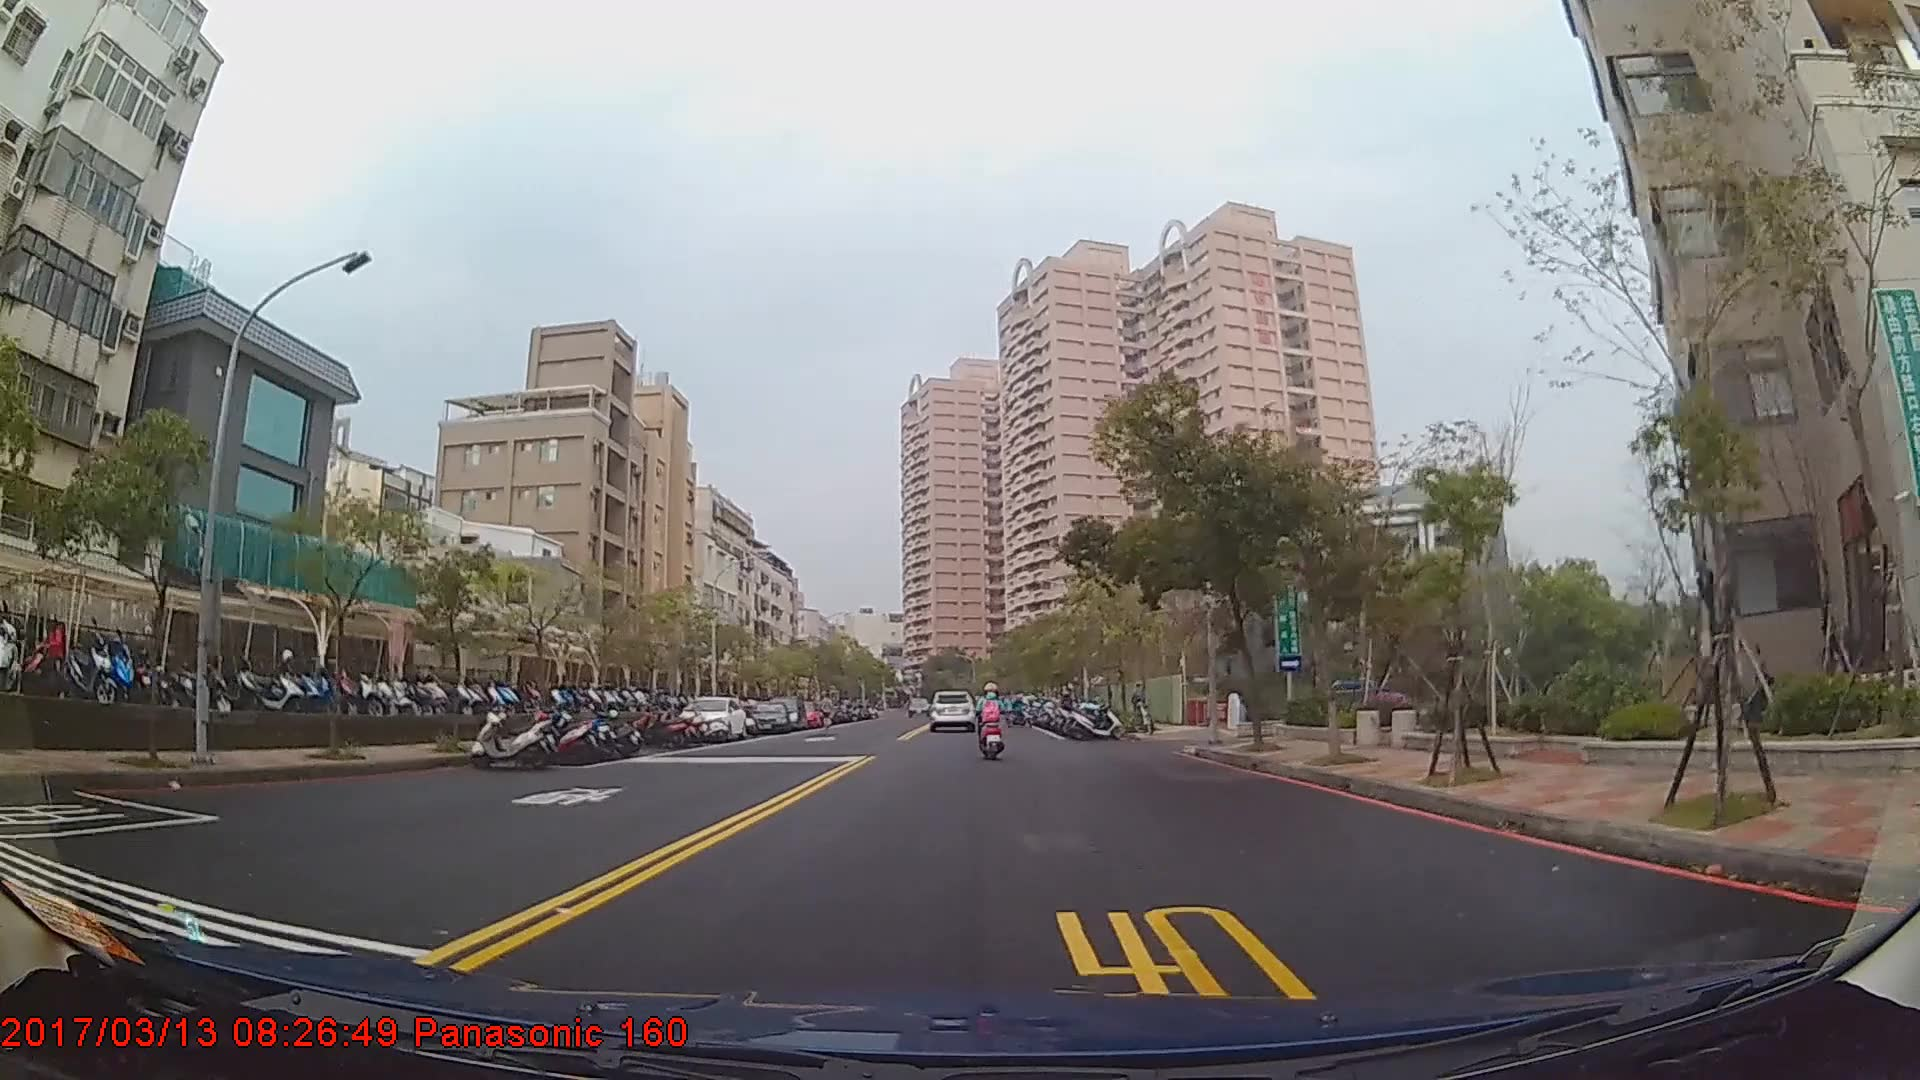pedestrian: (1131, 681, 1151, 727)
rider: (975, 681, 1006, 758)
vehicle: (678, 695, 747, 743), (925, 687, 975, 731), (744, 699, 793, 737)
